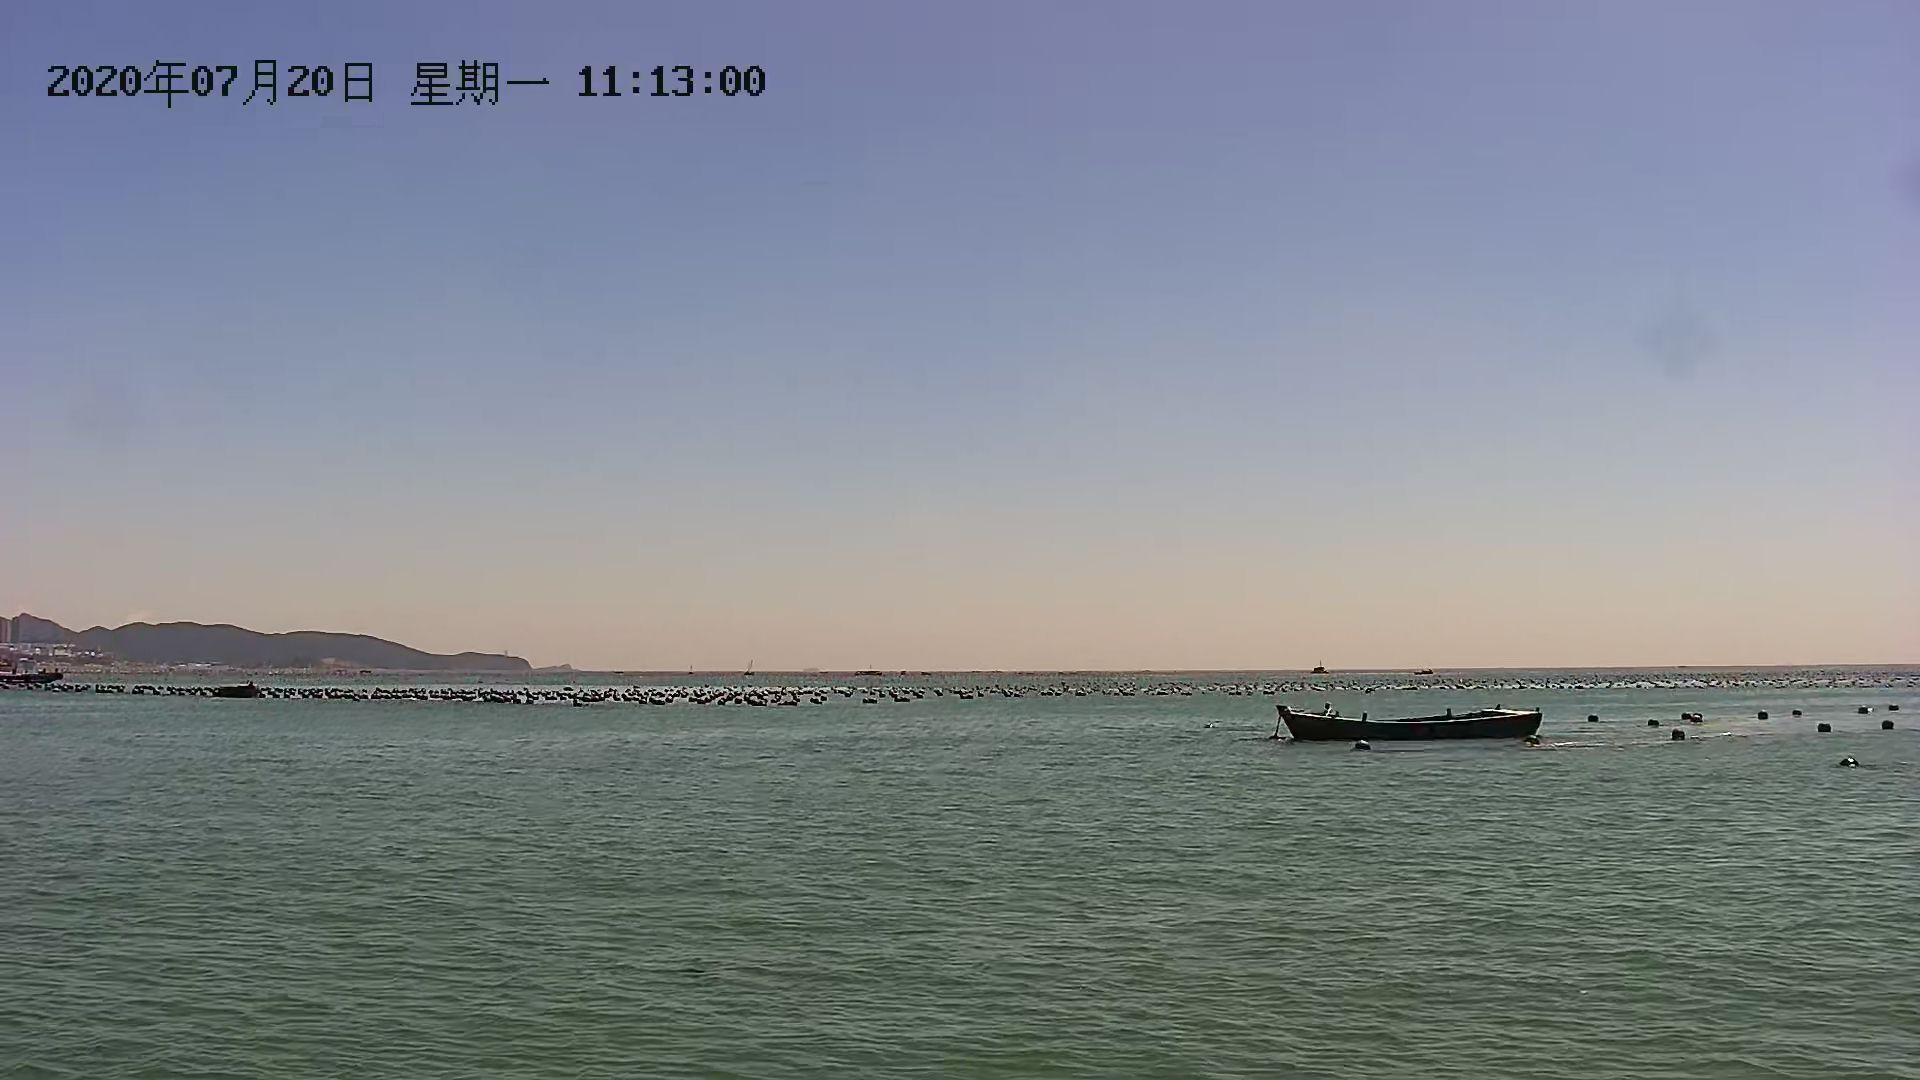ball: (1577, 708, 1606, 731), (1837, 750, 1865, 771), (1665, 720, 1692, 741), (1667, 723, 1695, 742), (1349, 738, 1374, 757), (1816, 712, 1836, 733), (1749, 705, 1768, 727), (1884, 712, 1903, 733)
boat: (1276, 694, 1548, 748)
rock: (1, 616, 551, 702)
